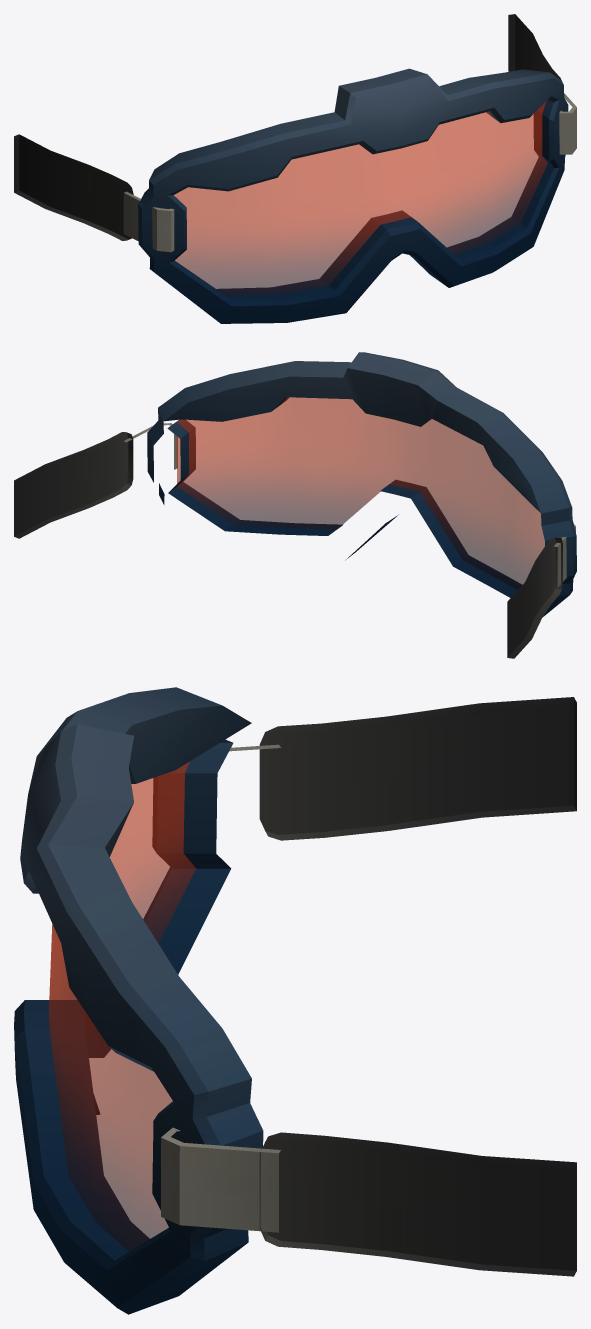
File: Glasses_Techno_A.gltf
The picture shows the model from 3 angles, top to bottom: view 1: azimuth 30°, elevation 25°; view 2: azimuth 150°, elevation 25°; view 3: azimuth 270°, elevation 25°; orthographic projection. The views are drawn at different scales.
Parts seen in each view (by area): view 1: Glasses_Techno_A; view 2: Glasses_Techno_A; view 3: Glasses_Techno_A.
Boxes of the visible parts, <box> form: Glasses_Techno_A: <box>14,14,576,323</box>; Glasses_Techno_A: <box>14,352,576,658</box>; Glasses_Techno_A: <box>14,687,576,1314</box>.
Bounding box in the file's own units: 0.9649 × 0.3942 × 0.4874.
2 materials, 2 textured.
